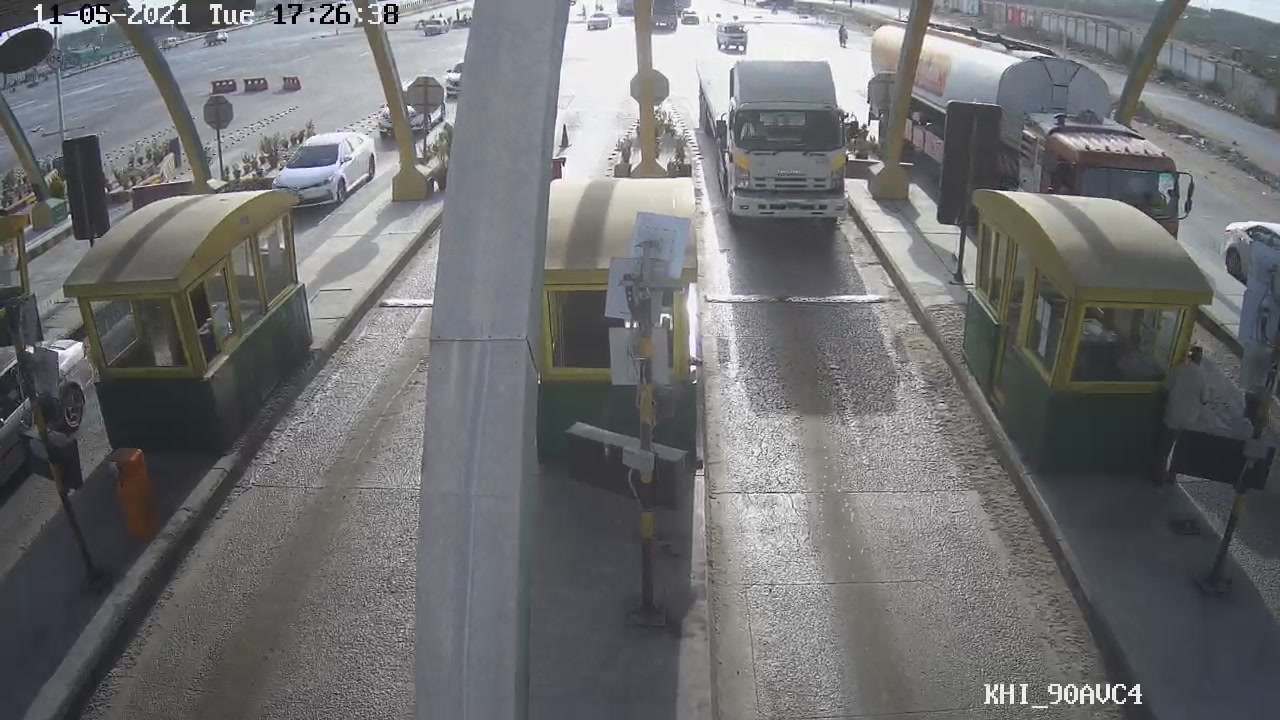F6: (692, 54, 865, 234)
